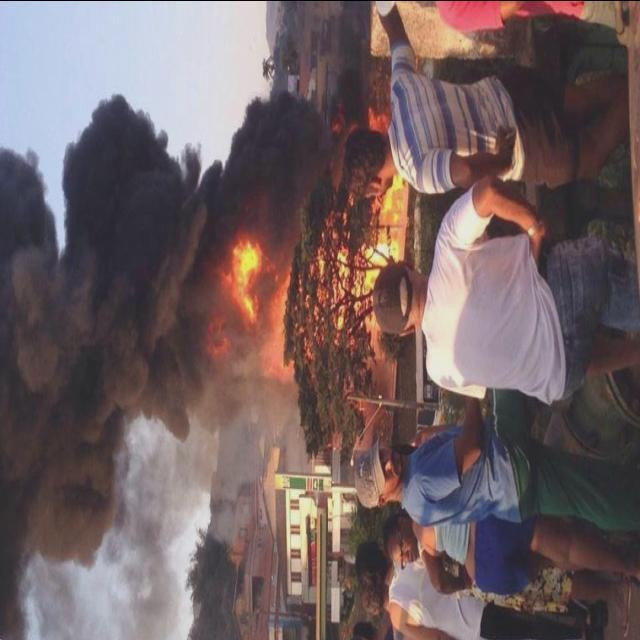Fire: (345, 182, 405, 330), (204, 228, 264, 354), (264, 274, 290, 382), (366, 108, 388, 130)
